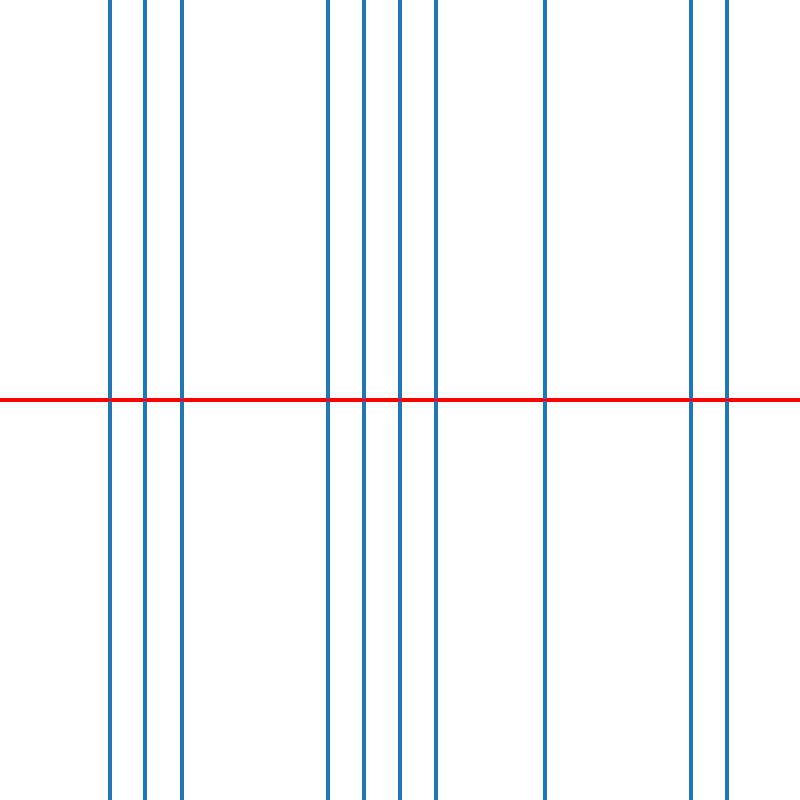root: (432, 396, 440, 404), (141, 396, 149, 404), (541, 396, 549, 404), (360, 396, 367, 404), (323, 396, 330, 404), (178, 396, 185, 404), (687, 396, 694, 404), (105, 396, 112, 404), (396, 396, 403, 404), (723, 396, 730, 404)
